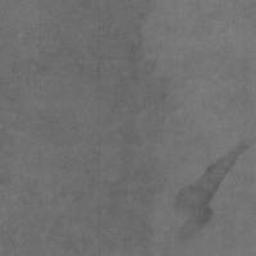Water spot: (0, 0, 172, 256), (172, 140, 251, 243)
